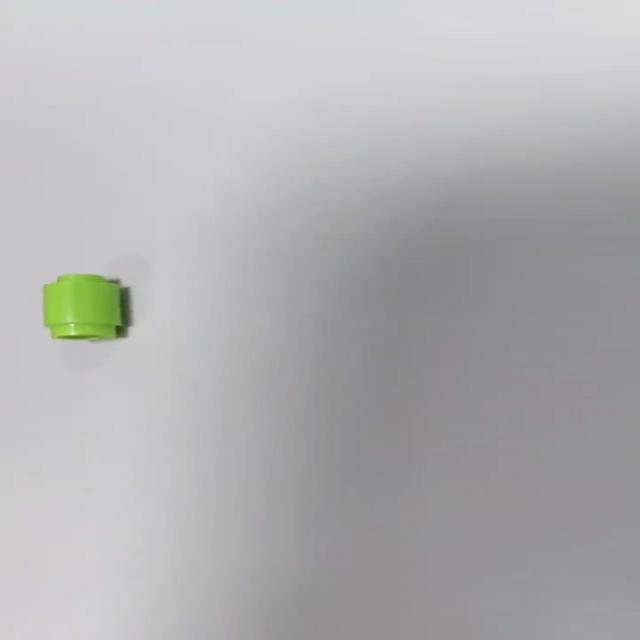S1x1x1: (31, 271, 136, 341), (35, 272, 128, 341)
